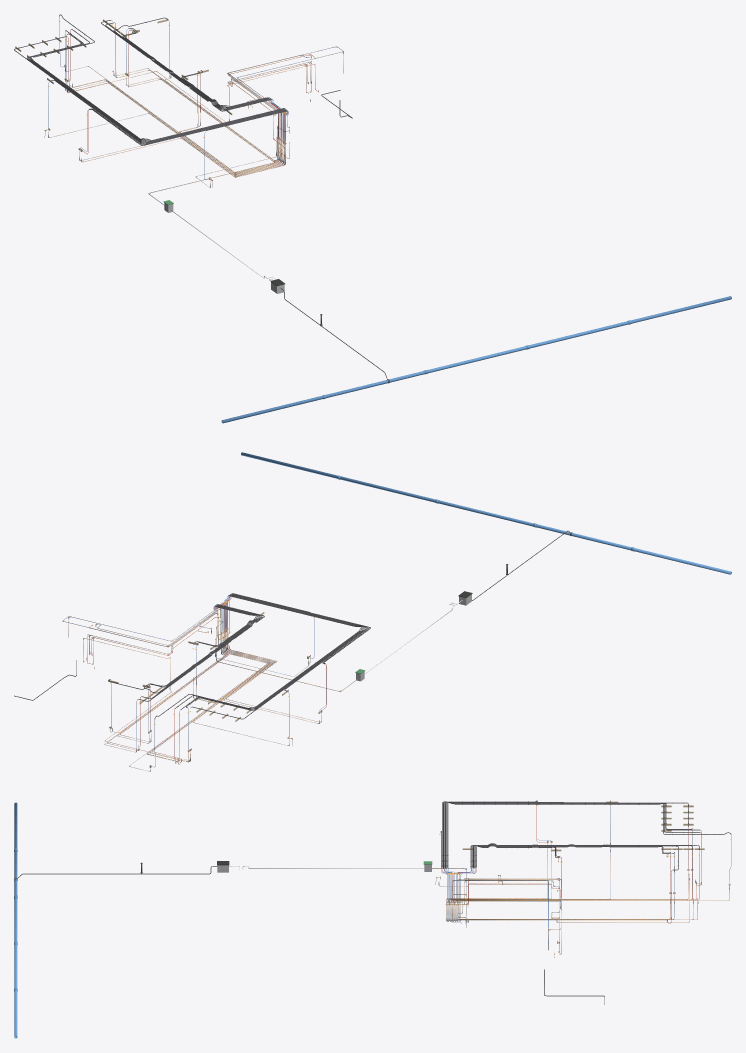
File: slab_pipes_supply.glb
3 views of the same model, one above another, from view 1: azimuth 30°, elevation 25°; view 2: azimuth 150°, elevation 25°; view 3: azimuth 270°, elevation 25° (orthographic). The views are drawn at different scales.
Visible parts, largest first — view 1: city_water_main; view 2: city_water_main; view 3: city_water_main, foam_supply_repipe_hallbath_tub_hot, blocking_supply_repipe_bays, foam_supply_repipe_hallbath_vanity_hot.
Boxes of the visible parts, left/top/right/bottom form: city_water_main: left=221, top=296, right=731, bottom=423; city_water_main: left=241, top=452, right=731, bottom=574; city_water_main: left=14, top=802, right=17, bottom=1038; foam_supply_repipe_hallbath_tub_hot: left=447, top=801, right=700, bottom=867; blocking_supply_repipe_bays: left=462, top=801, right=704, bottom=872; foam_supply_repipe_hallbath_vanity_hot: left=444, top=801, right=688, bottom=867.
Bounding box in the file's own units: 30.48 × 4.62 × 39.67.
